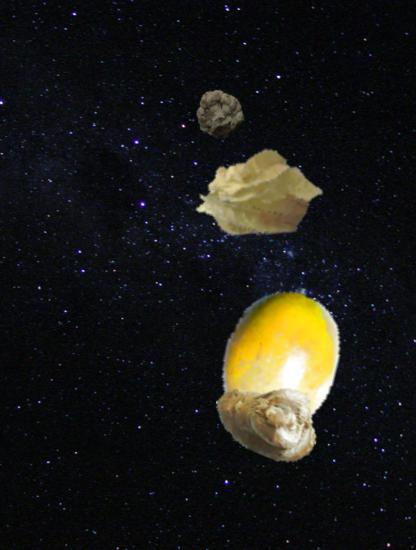Cauliflower: (194, 89, 245, 140)
Ginger: (214, 364, 323, 473)
Maracuja: (207, 285, 355, 433)
Physalis: (193, 127, 325, 259)
